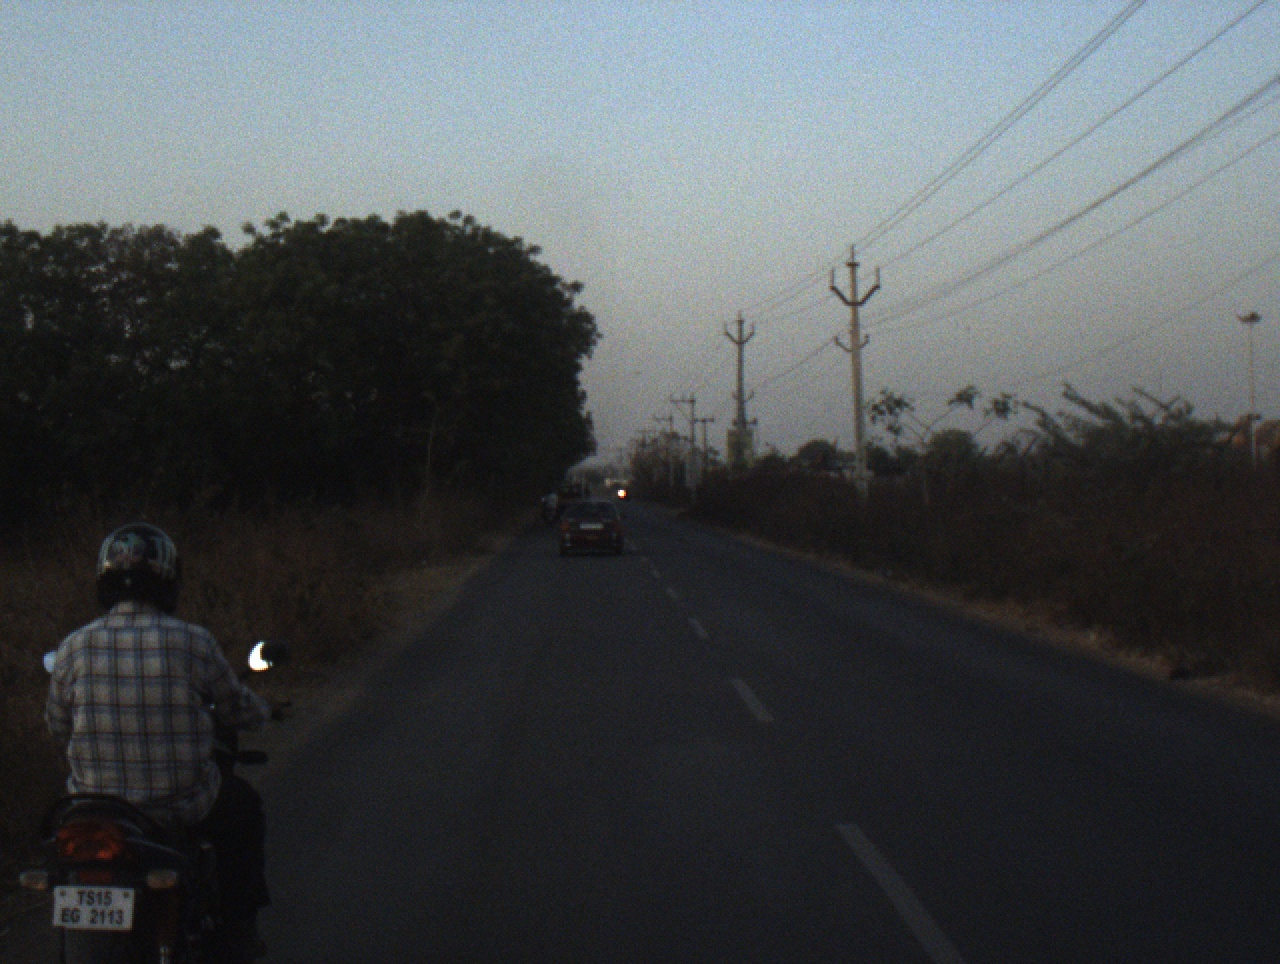autorickshaw: (555, 477, 588, 511)
car: (550, 499, 624, 557)
motorcycle: (17, 632, 279, 942), (539, 497, 558, 526)
rider: (36, 515, 274, 941), (538, 489, 560, 516)
vehicle fallback: (615, 485, 631, 502)
